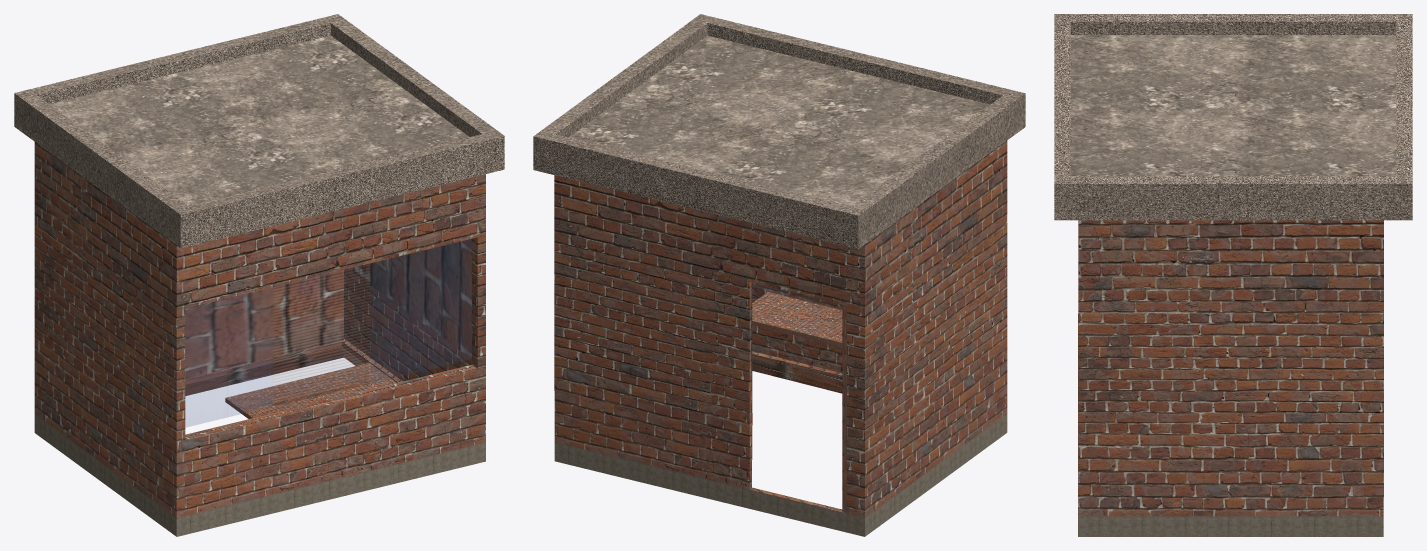
File: GuardHouse.fbx
The picture shows the model from 3 angles, left to right: view 1: azimuth 30°, elevation 25°; view 2: azimuth 150°, elevation 25°; view 3: azimuth 270°, elevation 25°; orthographic projection. The views are drawn at different scales.
Visible parts, largest first — view 1: GaurdHouse, Glass; view 2: GaurdHouse; view 3: GaurdHouse.
Boxes of the visible parts, x1,y1,x2,y2 form: GaurdHouse: (14,14,504,536); Glass: (185,239,471,426); GaurdHouse: (533,14,1025,536); GaurdHouse: (1054,14,1412,536).
Size of the model in its own units: 336 by 329 by 299.
